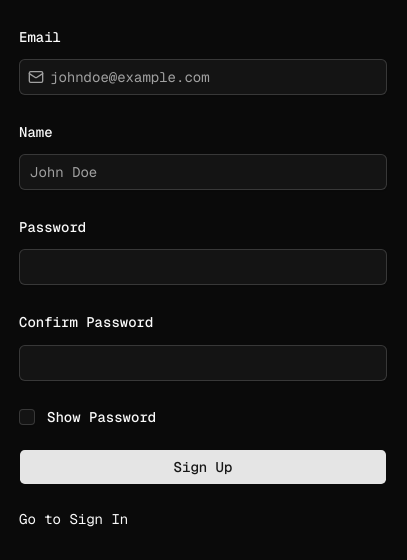
Test: SignUpForm › rejects a password shorter than eight characters
The image size is (407, 560).
Type "ada@example.com" into the field labelled "Email". click: (215,77)
box: left=44, top=59, right=386, bottom=95
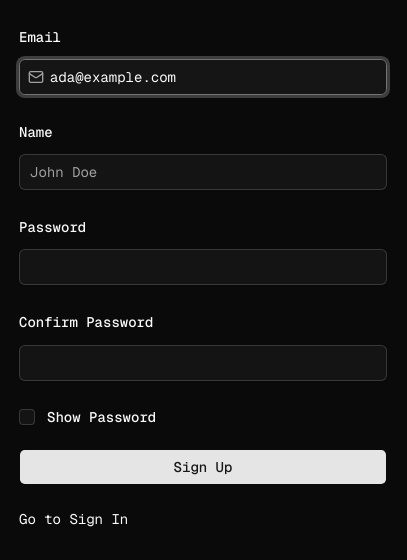
Type "Ada Lovelace" into the field labelled "Name". click: (203,172)
box: left=20, top=154, right=386, bottom=190
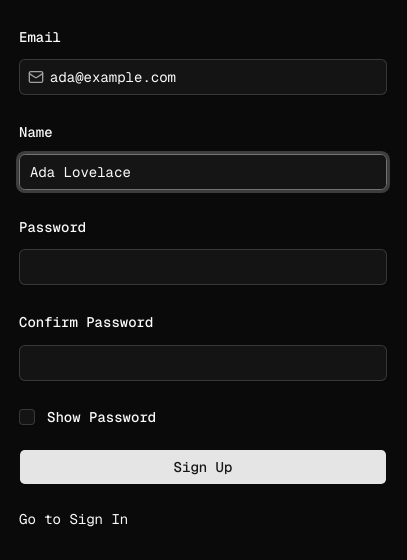
Type "short" into the password field labelled "Password". click: (203,267)
box: left=20, top=249, right=386, bottom=285
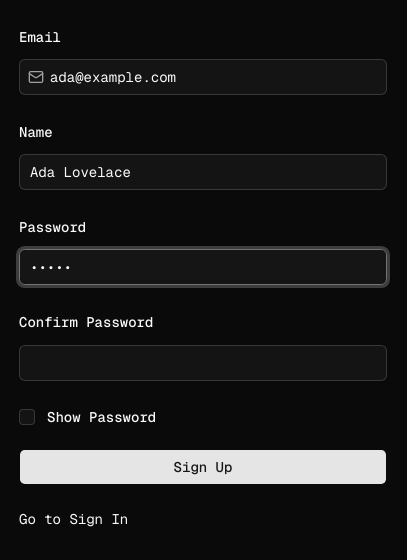
Type "short" into the password field labelled "Confirm Password". click: (203,362)
box: left=20, top=344, right=386, bottom=380
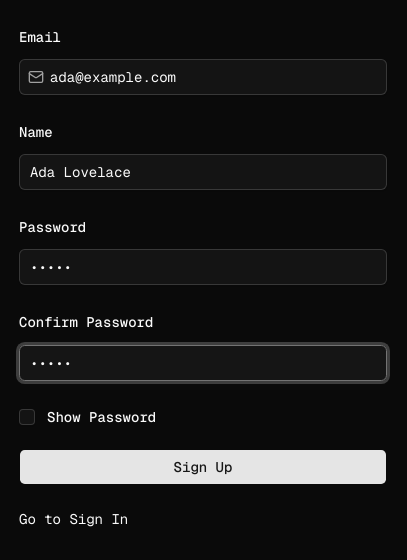
Click the button "Sign Up". click: (203,466)
box: left=19, top=448, right=387, bottom=484
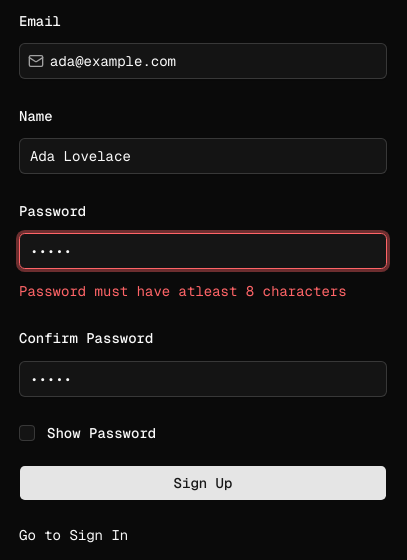
Result: the text "Password must have atleast 8 characters" is shown at left=19, top=281, right=387, bottom=301
